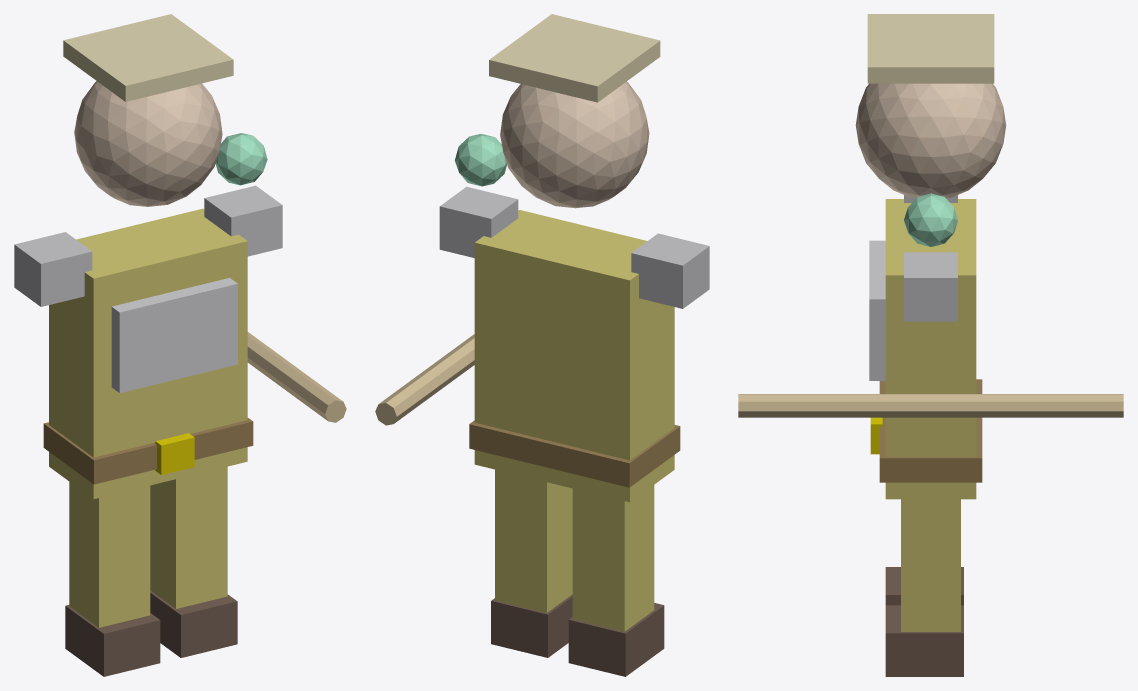
The model's file is support_m.glb.
3 renders of one model, left to right at view 1: azimuth 30°, elevation 25°; view 2: azimuth 150°, elevation 25°; view 3: azimuth 270°, elevation 25°, orthographic.
Visible parts, largest first — view 1: geometry_0; view 2: geometry_0; view 3: geometry_0.
Part boxes in pixels (x1,y1,x2,y2): geometry_0: (14,14,346,676); geometry_0: (375,14,709,676); geometry_0: (738,14,1123,676).
Size of the model in its own units: 0.94 by 2.21 by 1.28.
